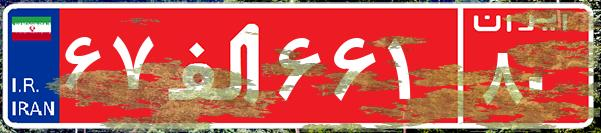0: (525, 38, 570, 115)
1: (385, 28, 445, 110)
6: (273, 28, 330, 110), (330, 28, 385, 110), (57, 26, 110, 107)
7: (110, 28, 158, 105)
8: (475, 38, 525, 113)
الف: (158, 15, 273, 115)
